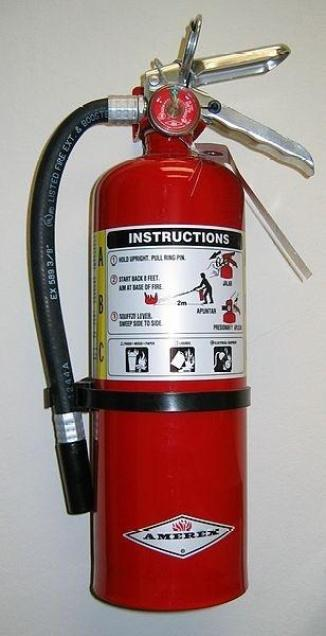APAR: (88, 32, 288, 611)
